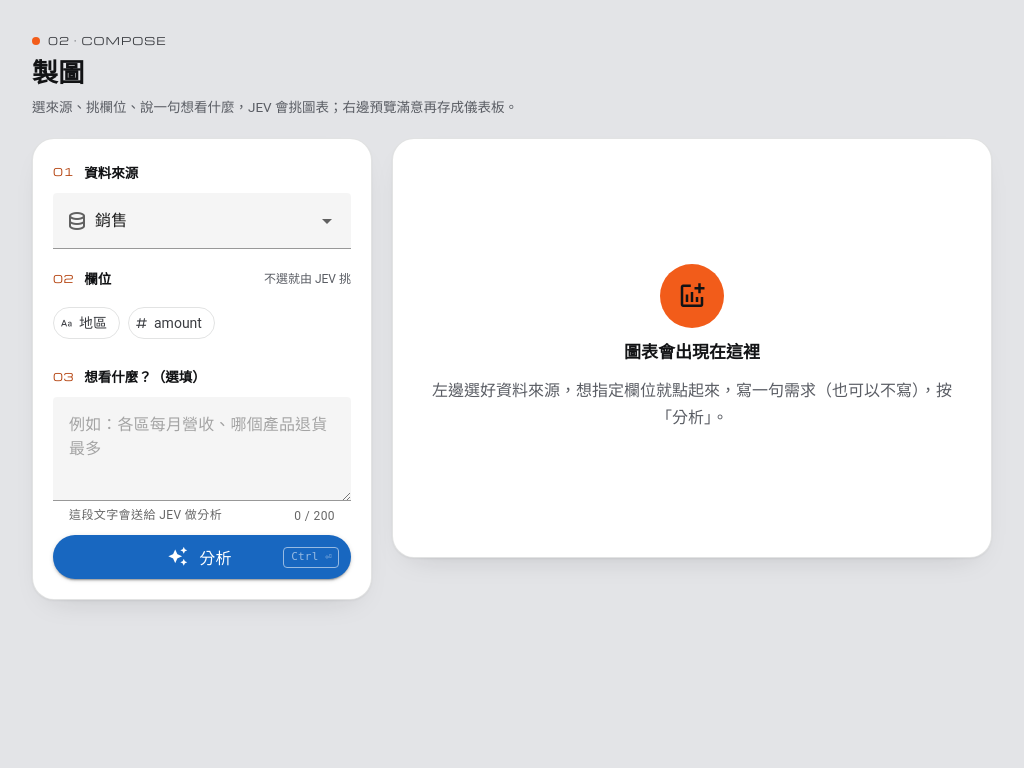
it: ChartBuilder › a failed save keeps the preview and shows the error in the canvas
The width and height of the screenshot is (1024, 768).
Click the button "分析 Ctrl ⏎" at (202, 557), box [53,535,351,579]
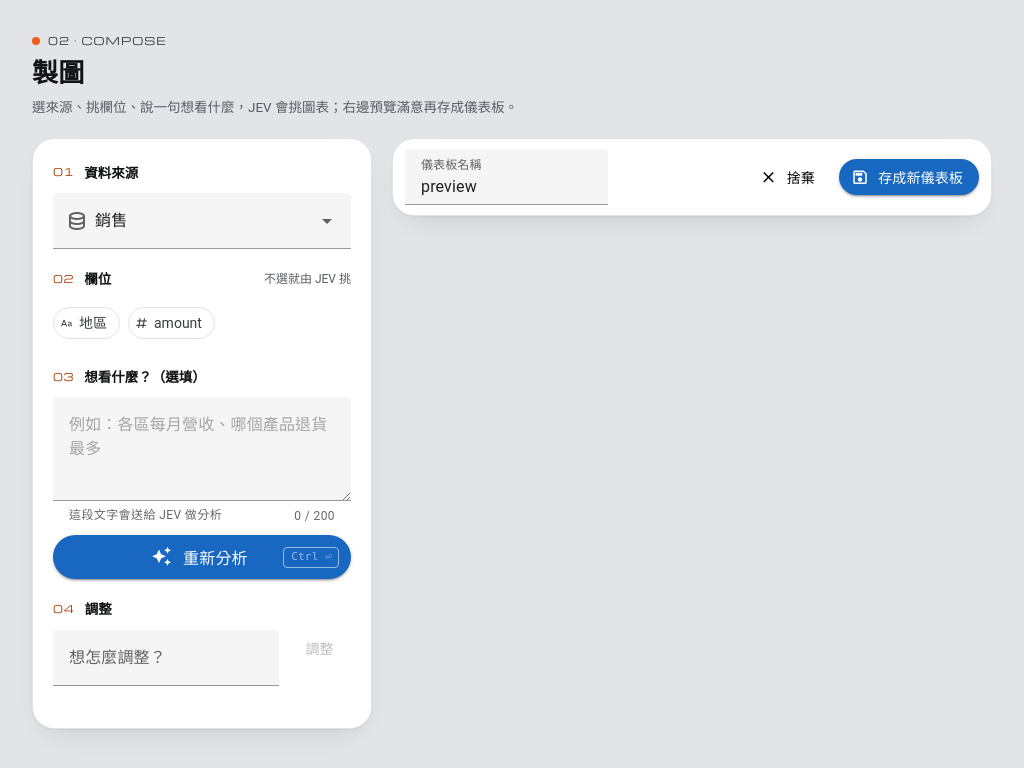
Click the button "存成新儀表板" at (909, 176), box [839,158,979,194]
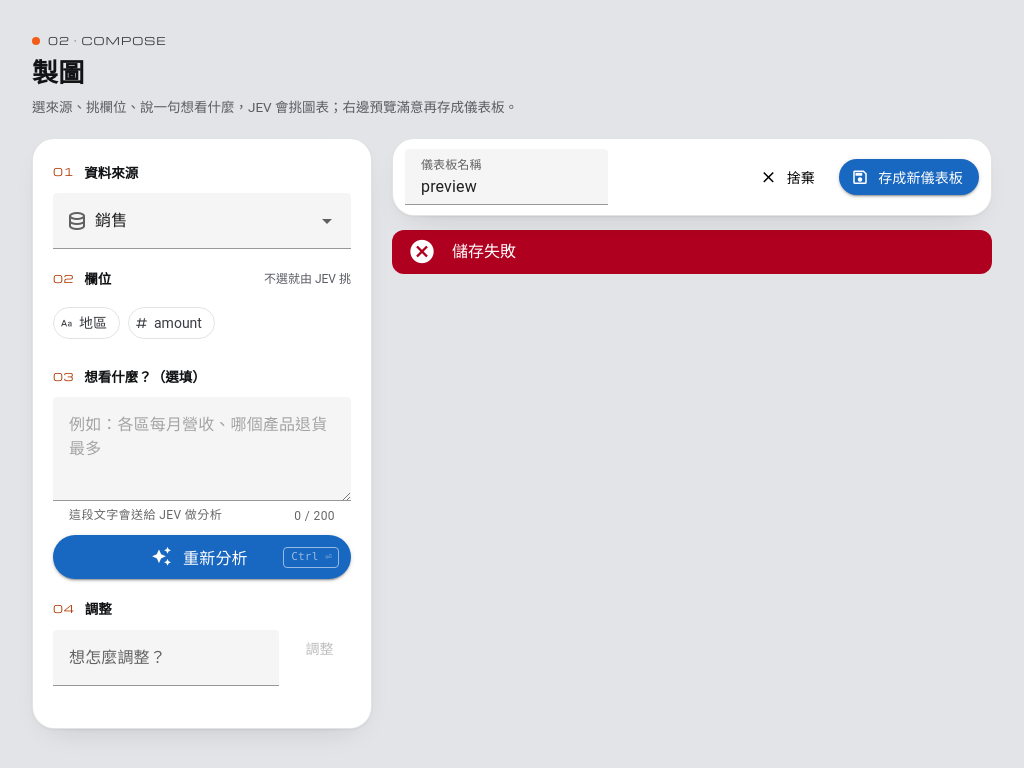
Expected: the message "儲存失敗" is shown, [392,230,992,274]
